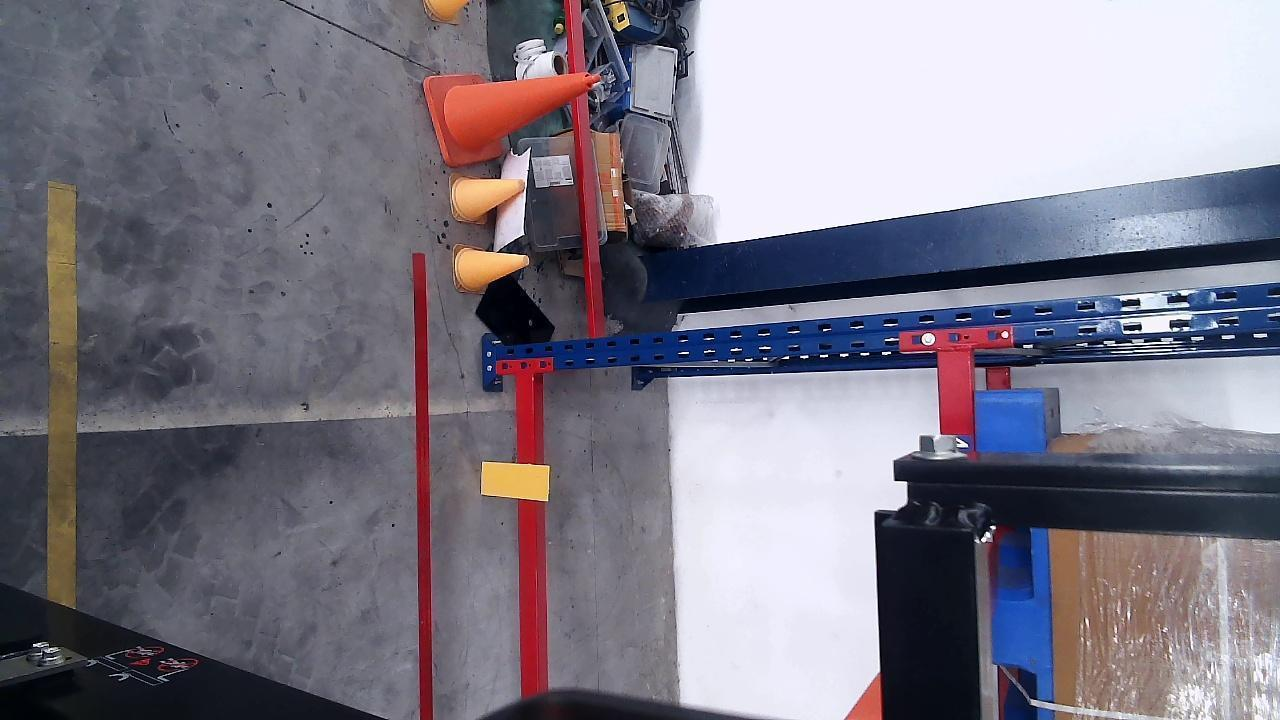red_line: (411, 252, 435, 720)
yellow_line: (46, 183, 76, 609)
